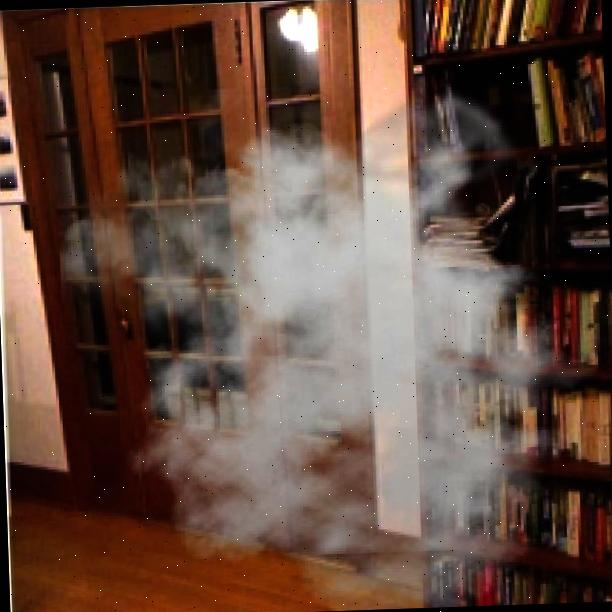smoke: (54, 75, 612, 612)
